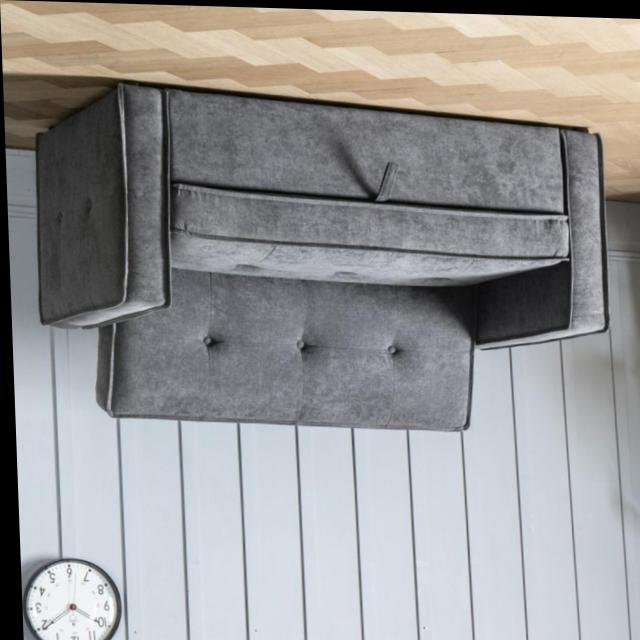Sofa: (29, 78, 614, 434)
